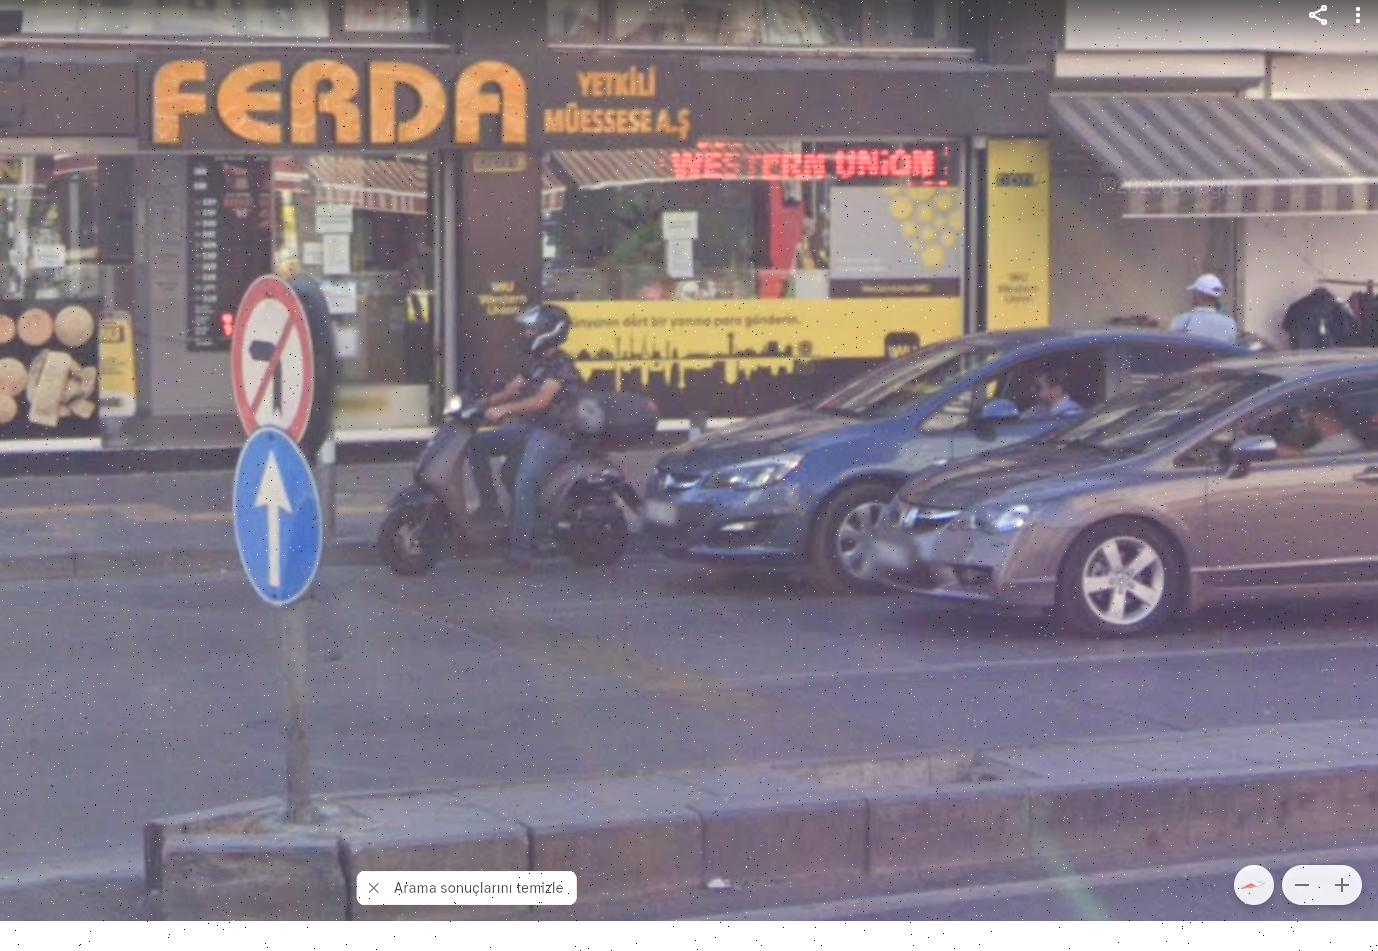forward: (238, 441, 329, 590)
leftturnsareforbidden: (234, 281, 314, 428)
